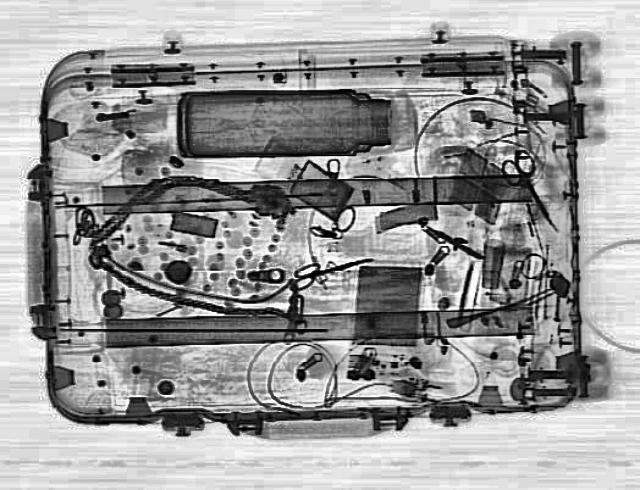Scissors: (491, 148, 574, 234), (284, 248, 378, 290)
